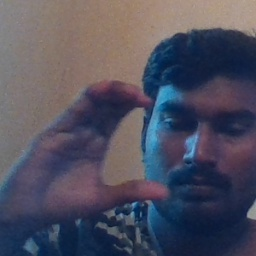C: (74, 80, 178, 204)
